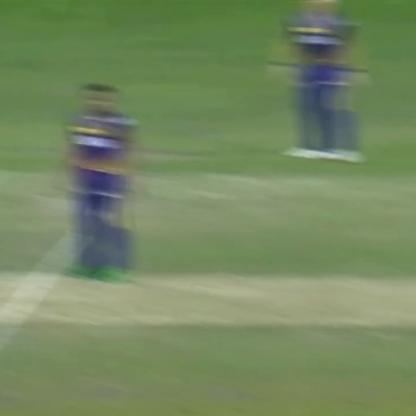pitch: (1, 271, 416, 343)
